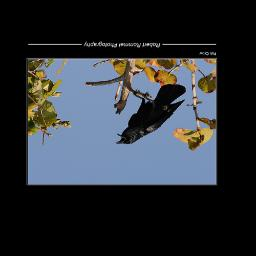Crow: (116, 84, 186, 145)
